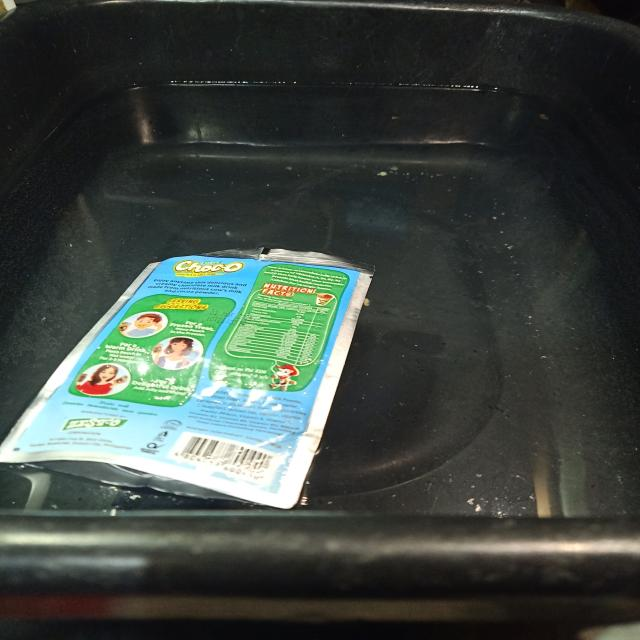Plastic Pouch: (0, 248, 374, 509)
